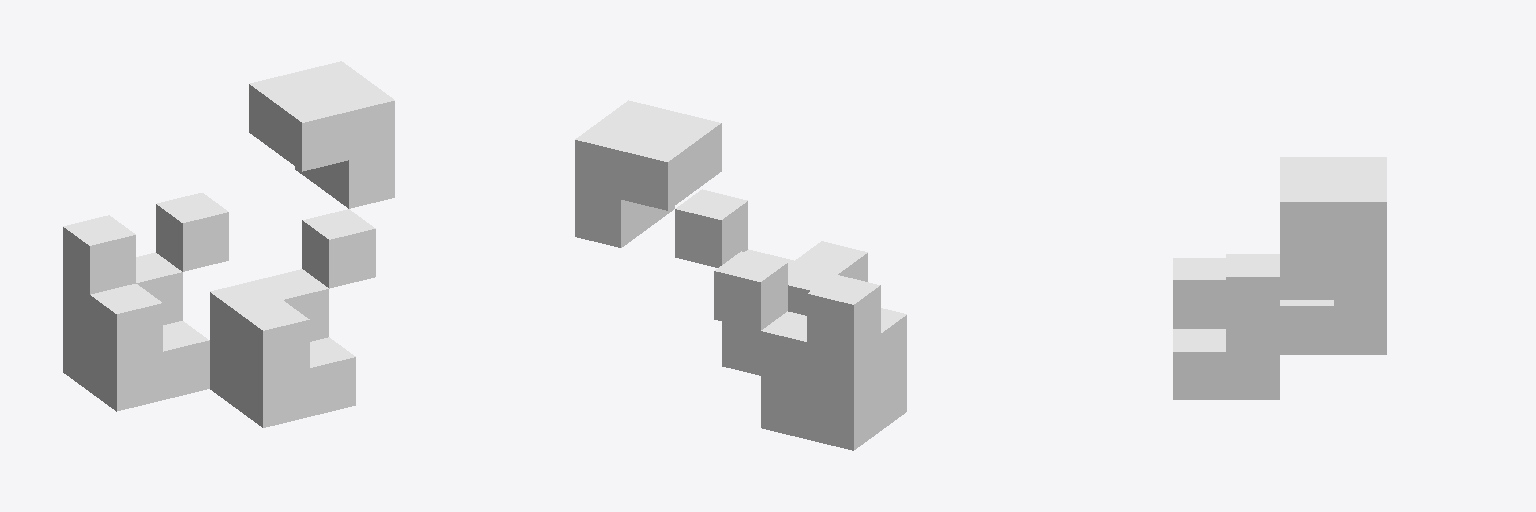
File: cubeland1-32.obj
3 renders of one model, left to right at view 1: azimuth 30°, elevation 25°; view 2: azimuth 150°, elevation 25°; view 3: azimuth 270°, elevation 25°, orthographic.
Visible parts, largest first — view 1: object 1; view 2: object 1; view 3: object 1.
Part boxes in pixels (bbox=[...]): object 1: bbox=[63, 61, 394, 427]; object 1: bbox=[575, 100, 906, 450]; object 1: bbox=[1173, 157, 1386, 399].
Bounding box in the file's own units: 0.6 × 0.5 × 0.4.